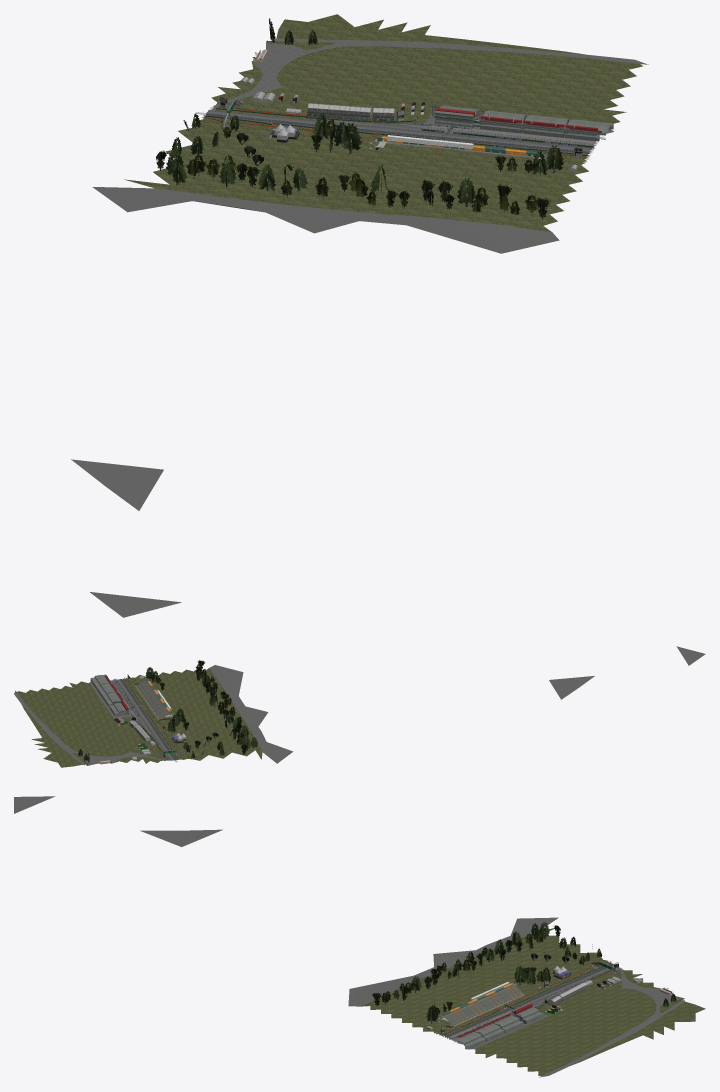
3 views of the same model, one above another, from view 1: azimuth 30°, elevation 25°; view 2: azimuth 150°, elevation 25°; view 3: azimuth 270°, elevation 25° (orthographic). The views are drawn at different scales.
Parts seen in each view (by area): view 1: tile_t04; view 2: tile_t04; view 3: tile_t04.
Part boxes in pixels (<box>): tile_t04: <box>71,14,648,617</box>; tile_t04: <box>14,646,705,767</box>; tile_t04: <box>14,796,705,1077</box>.
Size of the model in its own units: 1030 by 39.83 by 1056.
48 materials, 47 textured.
